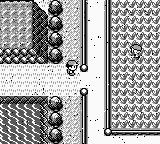captura: (112, 1, 159, 129), (0, 104, 39, 143)
main: (66, 61, 78, 75)
mo: (0, 96, 48, 143)
no-caminable: (0, 1, 48, 64), (48, 0, 63, 63), (48, 97, 63, 143)
npc: (130, 45, 142, 58)
